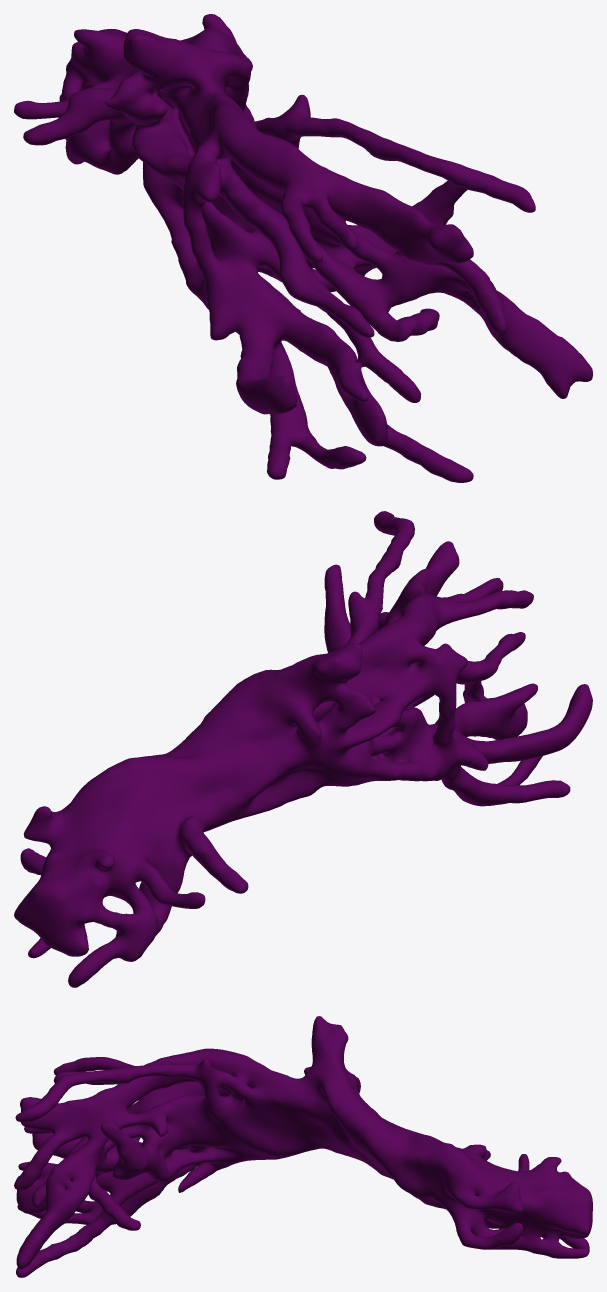
File: Pyramidal_tract.obj
The picture shows the model from 3 angles, top to bottom: view 1: azimuth 30°, elevation 25°; view 2: azimuth 150°, elevation 25°; view 3: azimuth 270°, elevation 25°; orthographic projection. The views are drawn at different scales.
Visible parts, largest first — view 1: grp1; view 2: grp1; view 3: grp1.
Boxes of the visible parts, box(x1,y1,x2,y2) form: grp1: box(14, 14, 592, 482); grp1: box(14, 511, 592, 987); grp1: box(14, 1016, 592, 1277).
Size of the model in its own units: 53.11 by 51.98 by 123.
